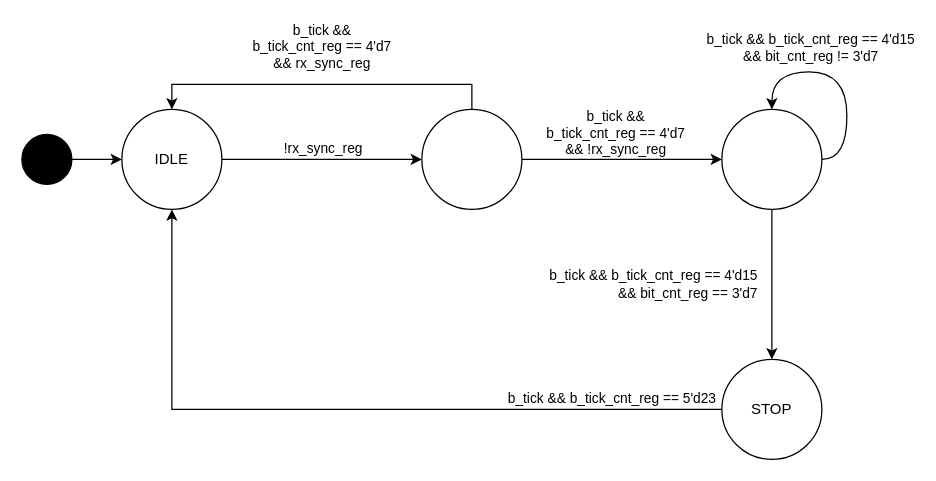
Some shapes in this 936 by 481 pixel diagram are drawn without their labels. The shapes that lost their labels are listed below. From the top down, each one's centre as x and y in pixels, then its label:
the point at 471,158: START
the point at 771,158: DATA
